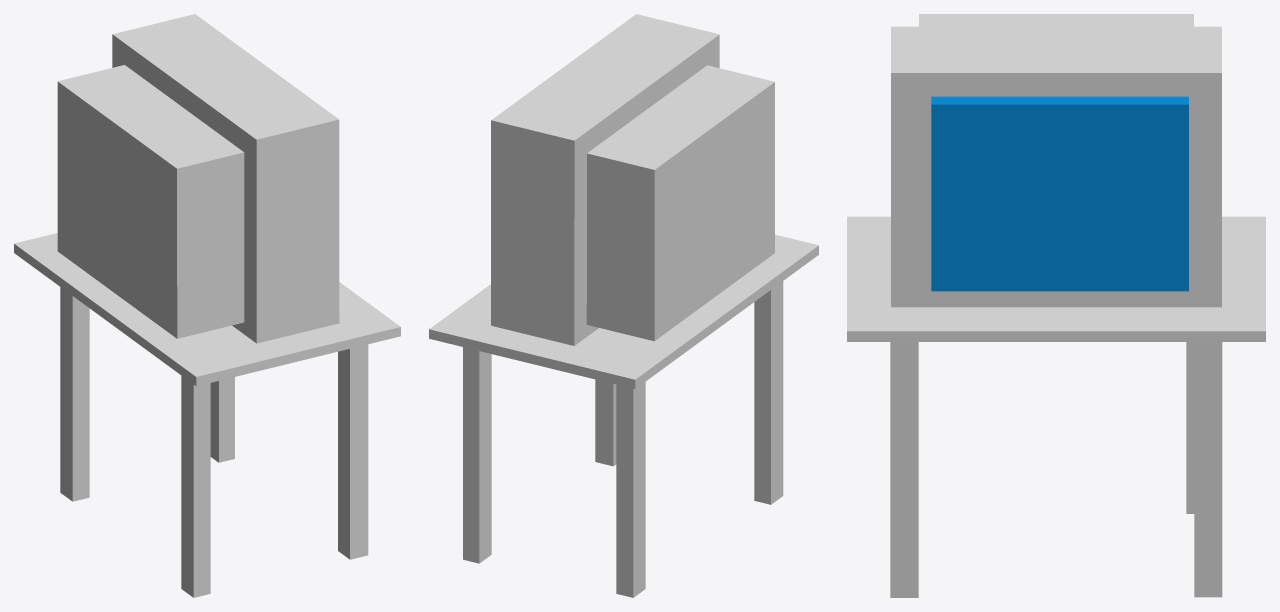
The picture shows the model from 3 angles, left to right: view 1: azimuth 30°, elevation 25°; view 2: azimuth 150°, elevation 25°; view 3: azimuth 270°, elevation 25°; orthographic projection. The views are drawn at different scales.
Visible parts, largest first — view 1: Cube.009, Cube.005, Cube.002, Cube, Cube.004, Cube.003, Cube.001; view 2: Cube.009, Cube.005, Cube.002, Cube.004, Cube.003, Cube.001, Cube; view 3: Cube.006, Cube.005, Cube.002, Cube, Cube.001, Cube.009, Cube.003.
Part boxes in pixels (x1,y1,x2,y2): Cube.009: [57, 65, 244, 338]; Cube.005: [112, 14, 339, 343]; Cube.002: [14, 233, 400, 386]; Cube: [338, 344, 368, 559]; Cube.004: [181, 375, 210, 597]; Cube.003: [60, 287, 89, 501]; Cube.001: [210, 377, 234, 462]; Cube.009: [586, 65, 774, 341]; Cube.005: [491, 14, 719, 345]; Cube.002: [429, 234, 818, 388]; Cube.004: [754, 281, 783, 504]; Cube.003: [616, 382, 645, 597]; Cube.001: [463, 347, 491, 563]; Cube: [595, 379, 616, 466]; Cube.006: [931, 96, 1188, 291]; Cube.005: [891, 26, 1221, 307]; Cube.002: [847, 216, 1265, 341]; Cube: [890, 342, 918, 597]; Cube.001: [1194, 342, 1222, 597]; Cube.009: [919, 14, 1193, 26]; Cube.003: [1186, 342, 1194, 513].
Size of the model in its own units: 189 by 390 by 291.
